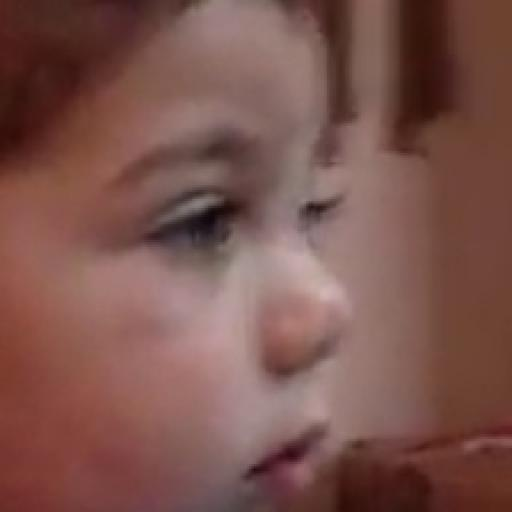Autism: (22, 38, 409, 512)
